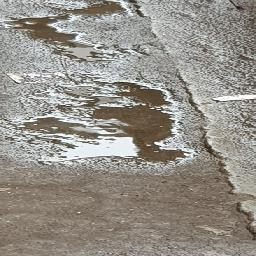water accumulation: (0, 0, 195, 170)
